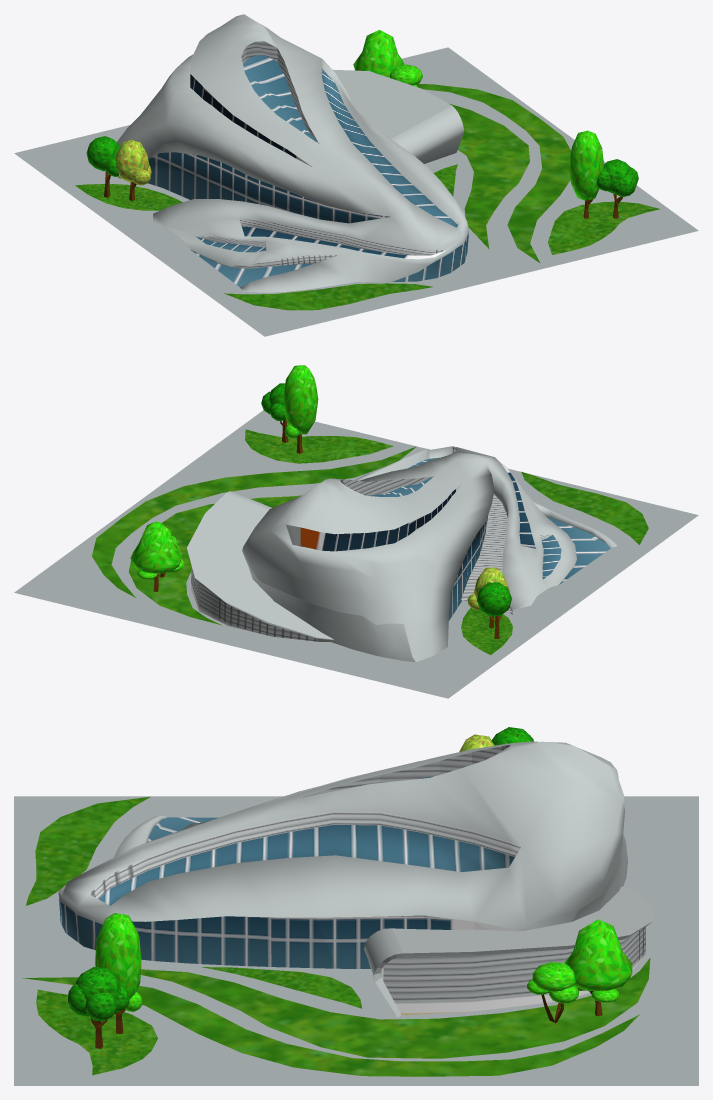
The model's file is fashion_LV1.fbx.
3 renders of one model, top to bottom at view 1: azimuth 30°, elevation 25°; view 2: azimuth 150°, elevation 25°; view 3: azimuth 270°, elevation 25°, orthographic. The views are drawn at different scales.
Parts seen in each view (by area): view 1: fashion level 1; view 2: fashion level 1; view 3: fashion level 1.
Boxes of the visible parts, x1,y1,x2,y2 form: fashion level 1: (14, 14, 698, 336); fashion level 1: (14, 365, 698, 698); fashion level 1: (14, 727, 698, 1085).
Size of the model in its own units: 120 by 35.47 by 120.
